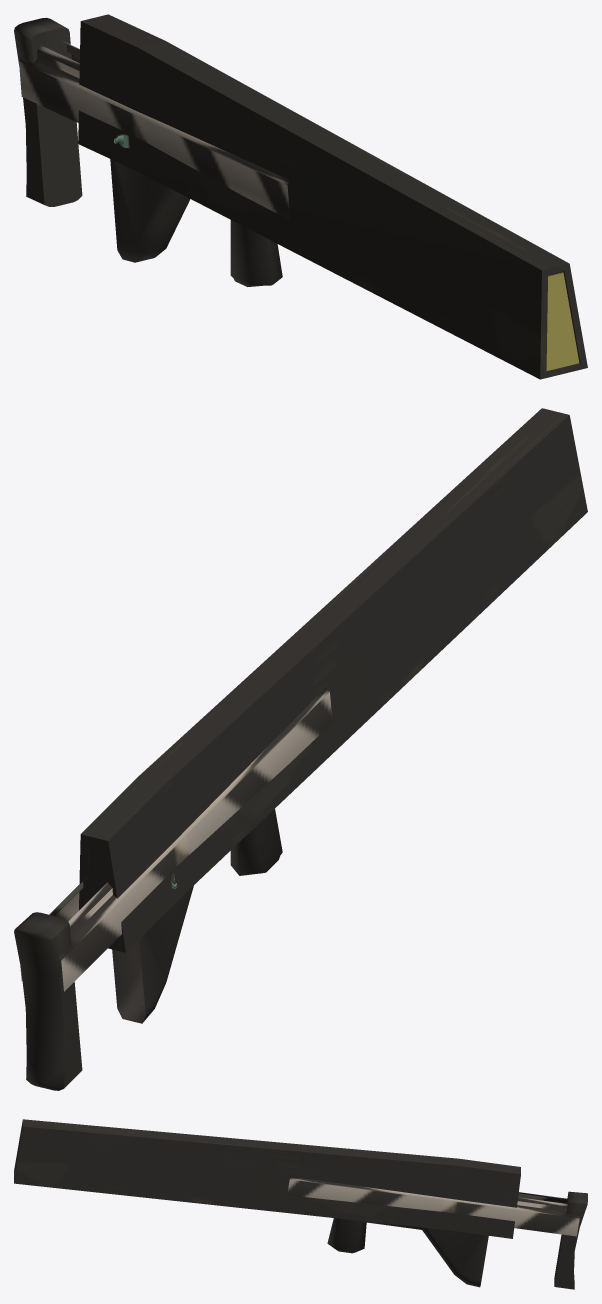
File: plama_rifle.dae
The picture shows the model from 3 angles, top to bottom: view 1: azimuth 30°, elevation 25°; view 2: azimuth 150°, elevation 25°; view 3: azimuth 270°, elevation 25°; orthographic projection. The views are drawn at different scales.
Visible parts, largest first — view 1: plama_rifle; view 2: plama_rifle; view 3: plama_rifle.
Part boxes in pixels (x1=…): plama_rifle: x1=14, y1=14, x2=587, y2=379; plama_rifle: x1=14, y1=408, x2=587, y2=1090; plama_rifle: x1=14, y1=1119, x2=587, y2=1289.
Bounding box in the file's own units: 0.1501 × 2.54 × 0.7985.
